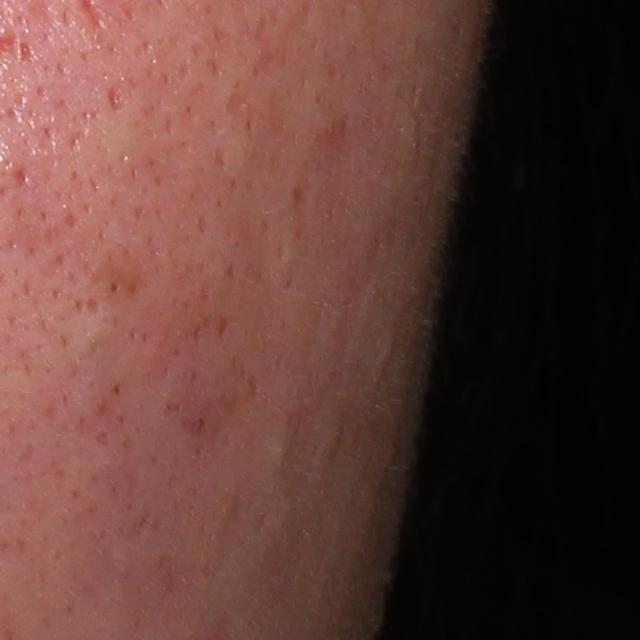atrophic_scar: (224, 88, 255, 122), (16, 35, 38, 68), (109, 88, 122, 113)
comedo: (267, 440, 298, 467), (102, 274, 124, 298)
